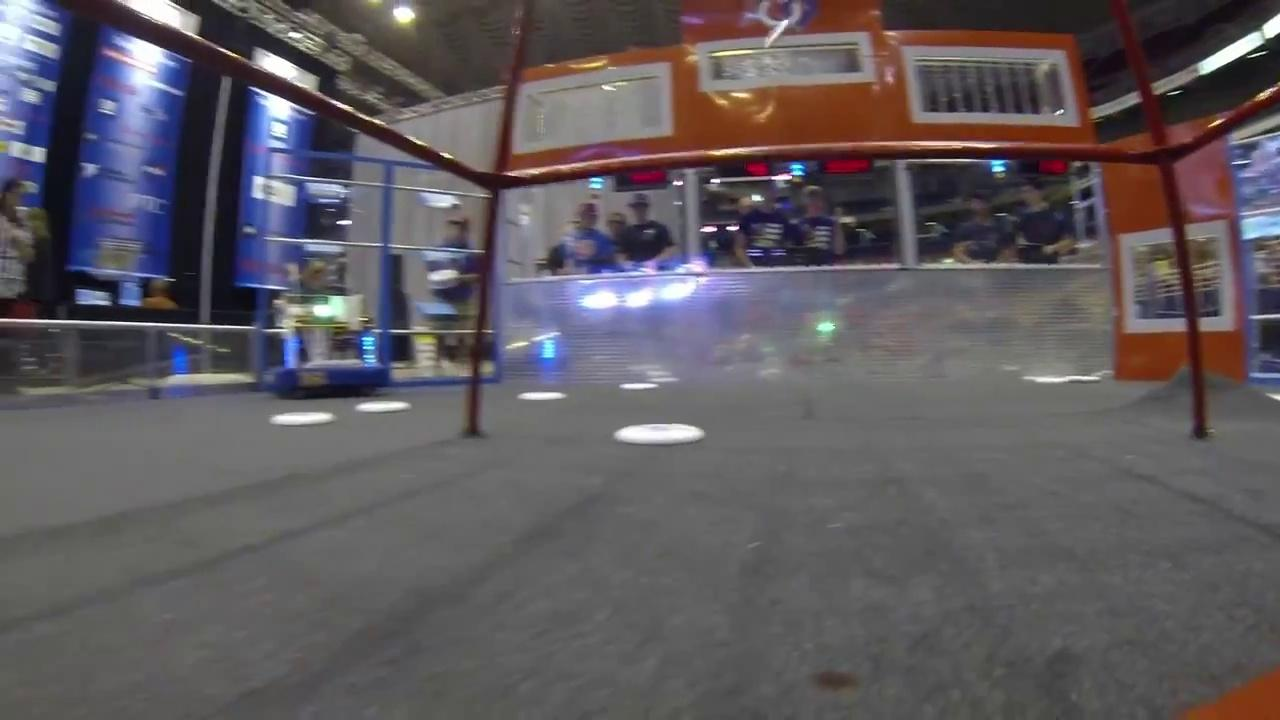robot: (259, 287, 396, 398)
